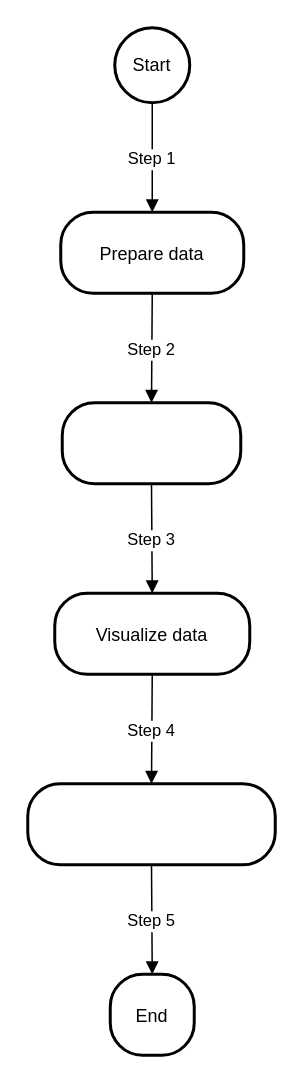
This 302x1082 diagram has some shape labels left out. Each missing label, with the centre of its shape:
"Process data" goes at [151,442].
"Review and iterate" goes at [151,824].
